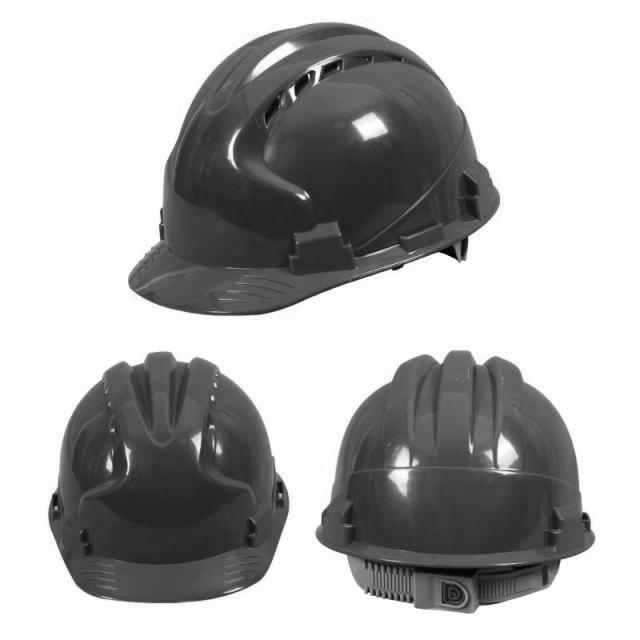construction helmet: (127, 22, 502, 319), (315, 351, 597, 614), (46, 351, 290, 606)
